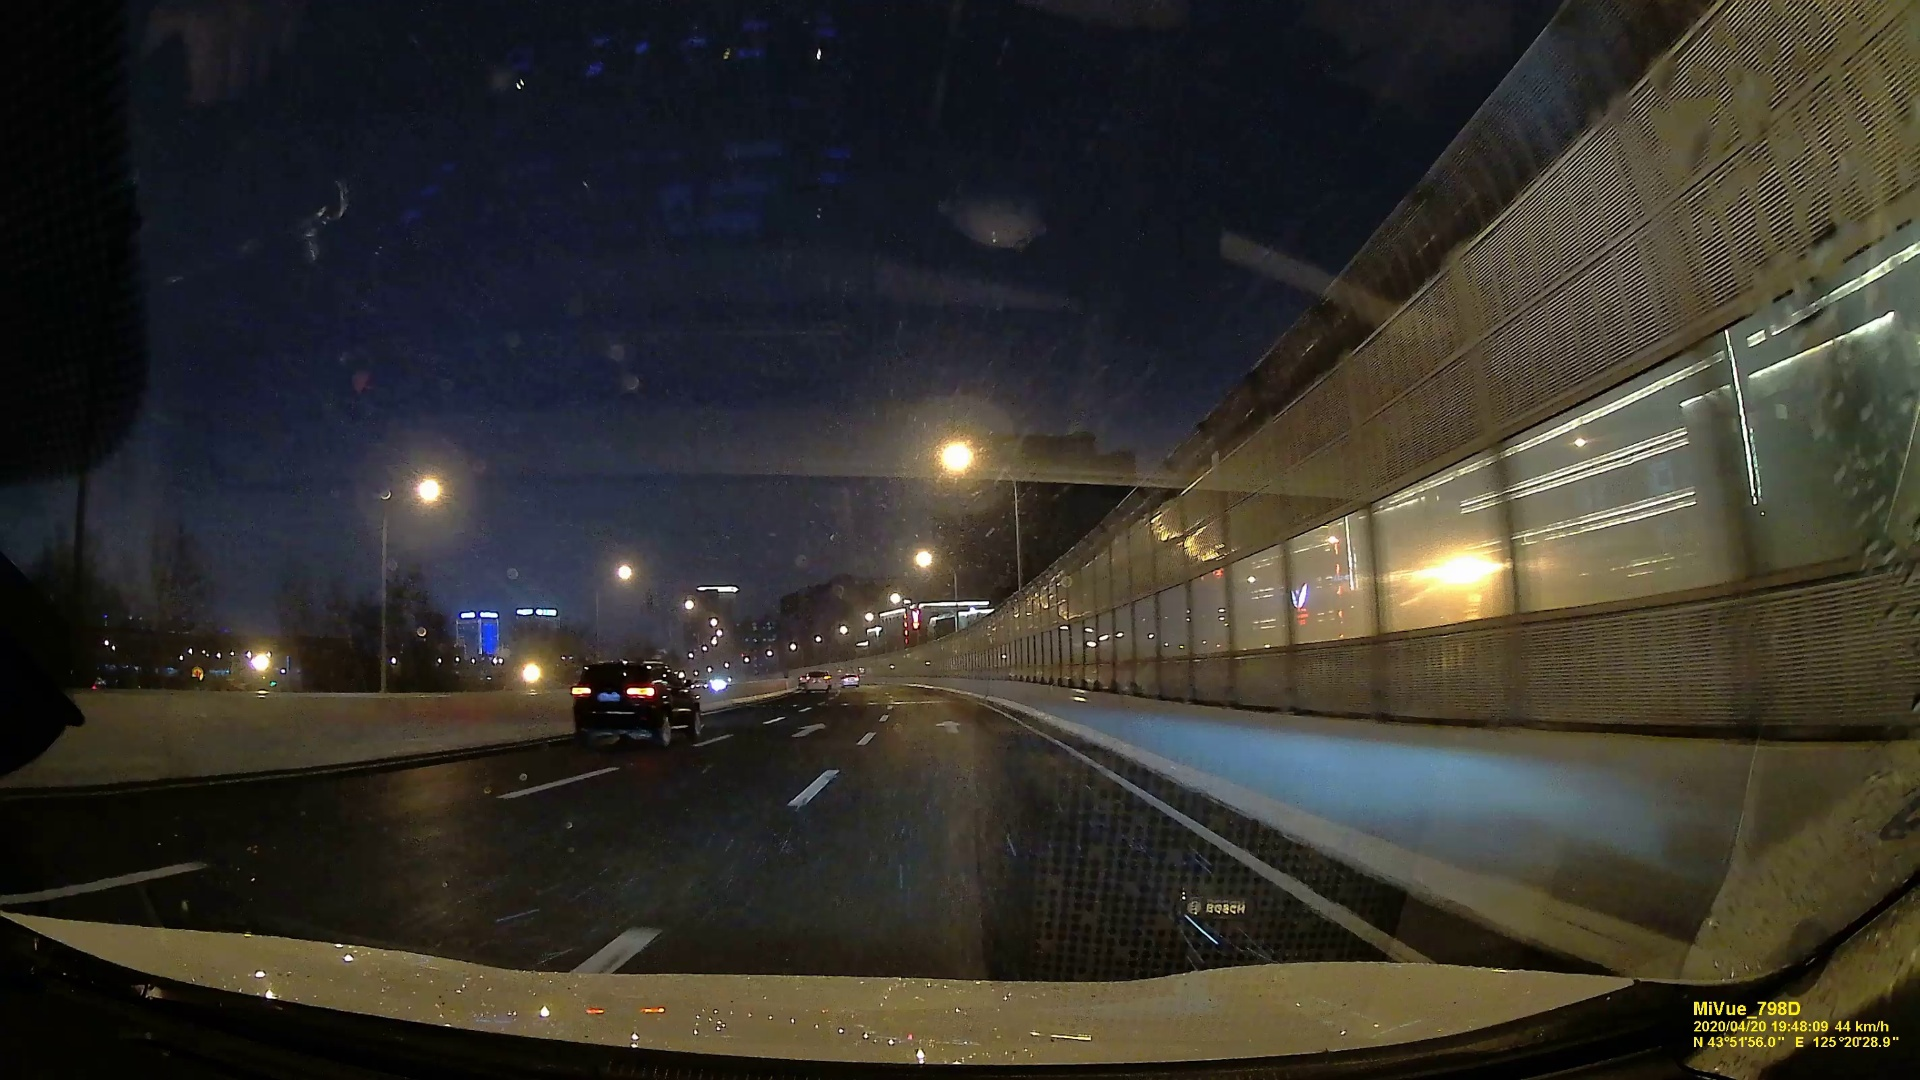vehicle: (568, 655, 703, 746), (802, 671, 832, 690)
